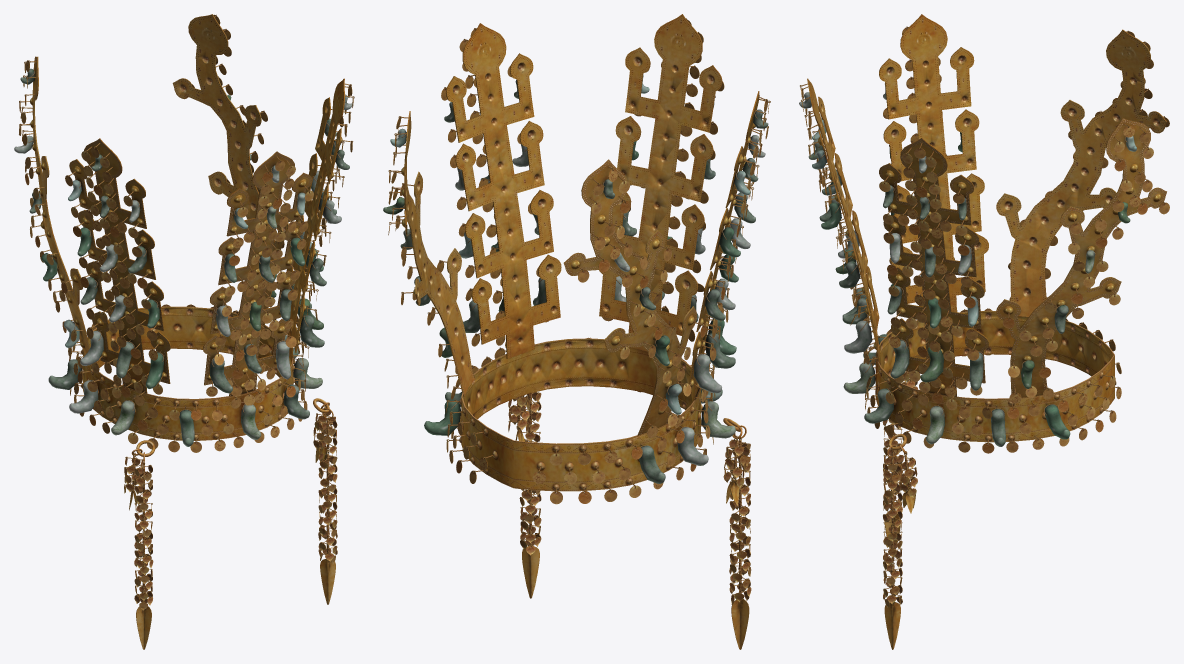
Rendered from crown.glb.
3 renders of one model, left to right at view 1: azimuth 30°, elevation 25°; view 2: azimuth 150°, elevation 25°; view 3: azimuth 270°, elevation 25°, orthographic. The views are drawn at different scales.
Visible parts, largest first — view 1: Object_2, Object_3, Object_5, Object_6, Object_7, Object_4; view 2: Object_2, Object_3, Object_5, Object_6, Object_7, Object_4; view 3: Object_2, Object_6, Object_5, Object_4, Object_3, Object_7.
Part boxes in pixels (x1,y1,x2,y2): Object_2: (14,68,352,446); Object_3: (19,14,313,452); Object_5: (69,78,344,393); Object_6: (30,14,288,365); Object_7: (124,398,337,649); Object_4: (161,83,354,442); Object_2: (383,75,768,491); Object_3: (388,14,770,504); Object_5: (446,23,759,400); Object_6: (401,111,696,435); Object_7: (508,392,751,649); Object_4: (438,28,715,483); Object_2: (799,85,1136,446); Object_6: (996,29,1166,397); Object_5: (879,14,988,396); Object_4: (812,142,1121,453); Object_3: (800,26,1169,448); Object_7: (882,371,917,649).
Size of the model in its own units: 3 by 5.37 by 3.41.
Materials: 5 (5 with a texture image).
